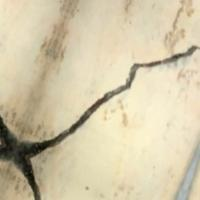crack: (1, 45, 199, 199)
